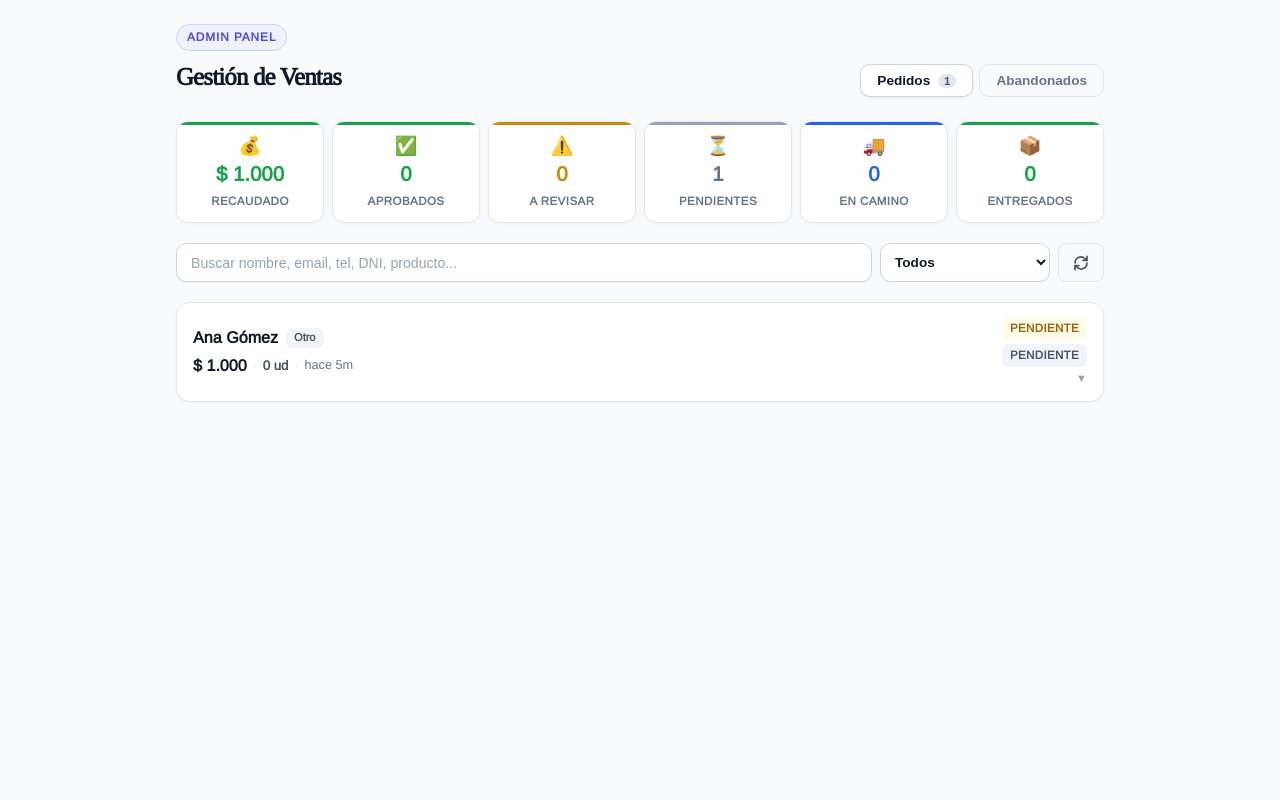
it: AdminOrders (integración con hooks y panel) › el detalle del pedido: tracking con Enter y aprobación manual con confirmación
The width and height of the screenshot is (1280, 800).
Click the button "Ana Gómez": click(236, 338) x1=177 y1=303 x2=1103 y2=401
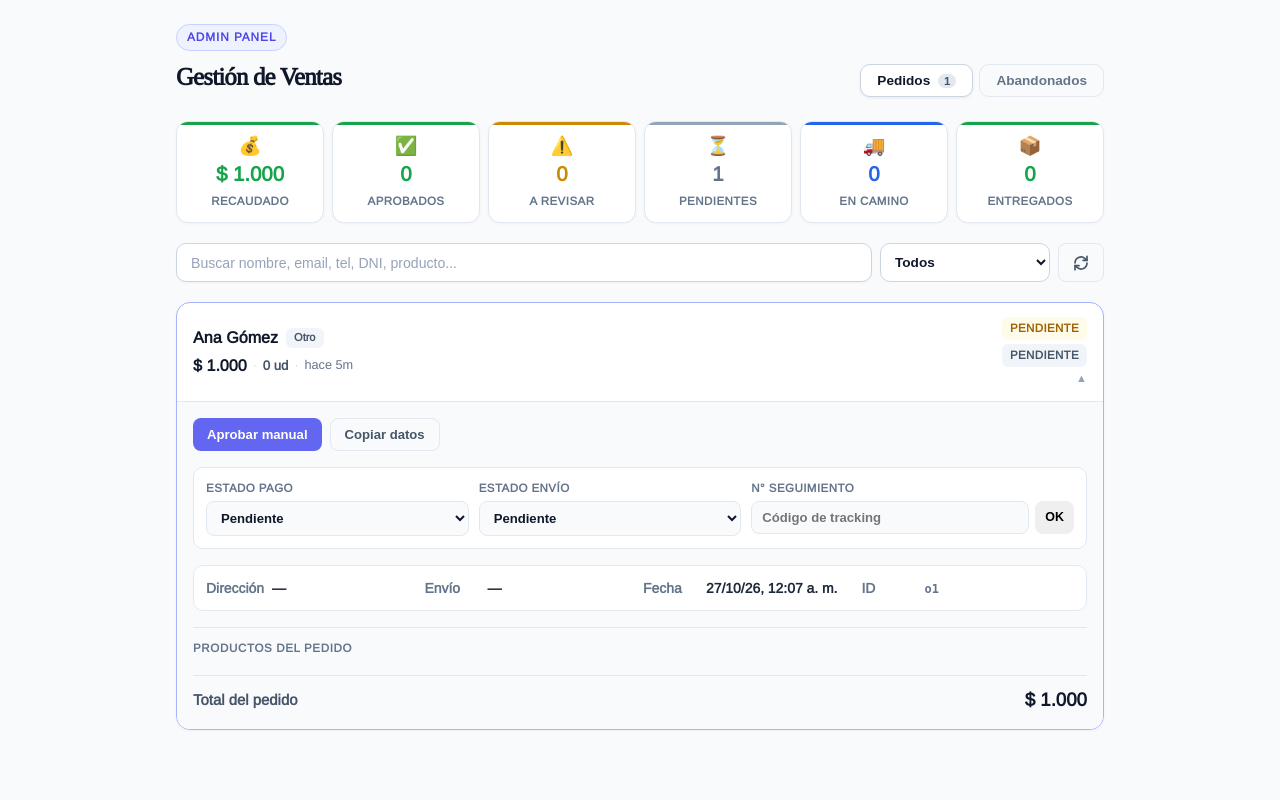
Now the button "Ana Gómez" is expanded, box x1=177 y1=303 x2=1103 y2=401
In the field labelled "N° seguimiento": (890, 517) x1=751 y1=501 x2=1029 y2=534, type "  AR123  "
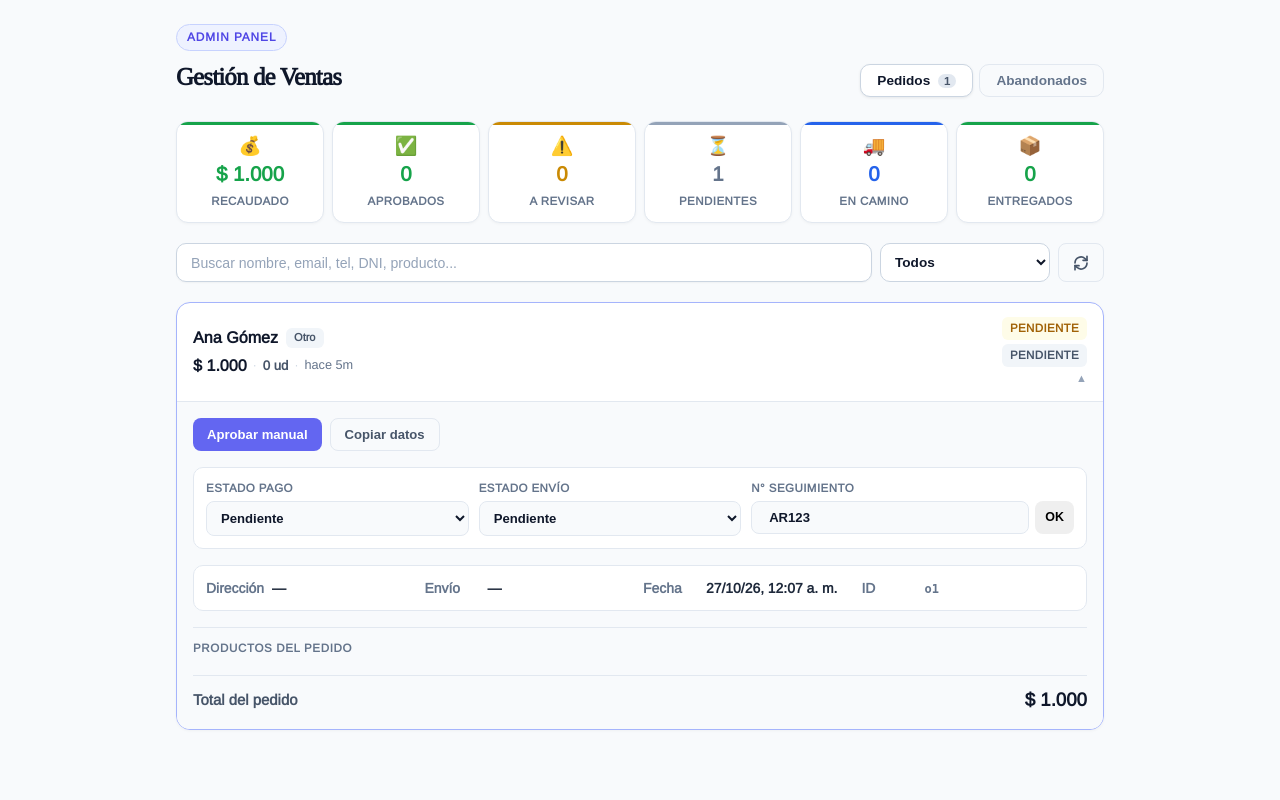
Submit the form labelled "N° seguimiento", box x1=751 y1=480 x2=1074 y2=536
Click the button "Aprobar manual": click(257, 434) x1=193 y1=418 x2=322 y2=451
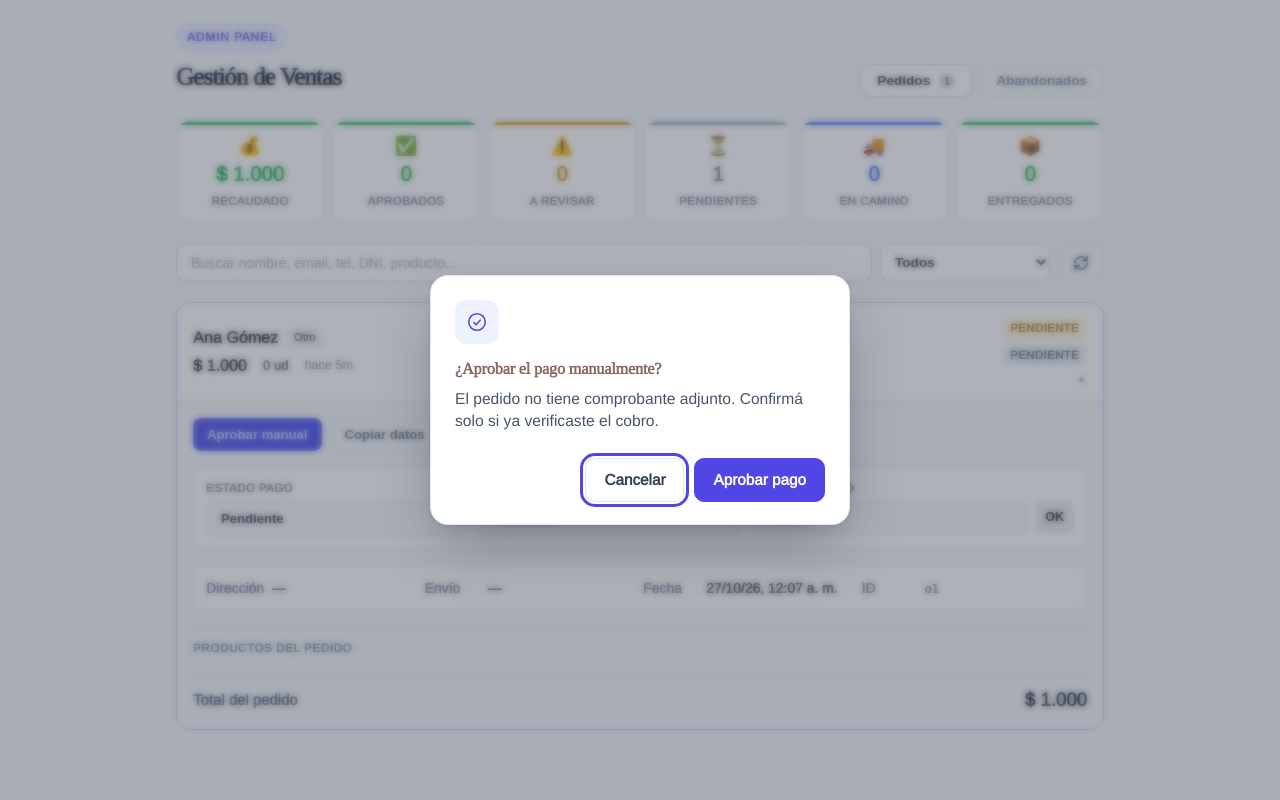
Click the button "Aprobar pago": click(760, 480) x1=694 y1=458 x2=825 y2=502
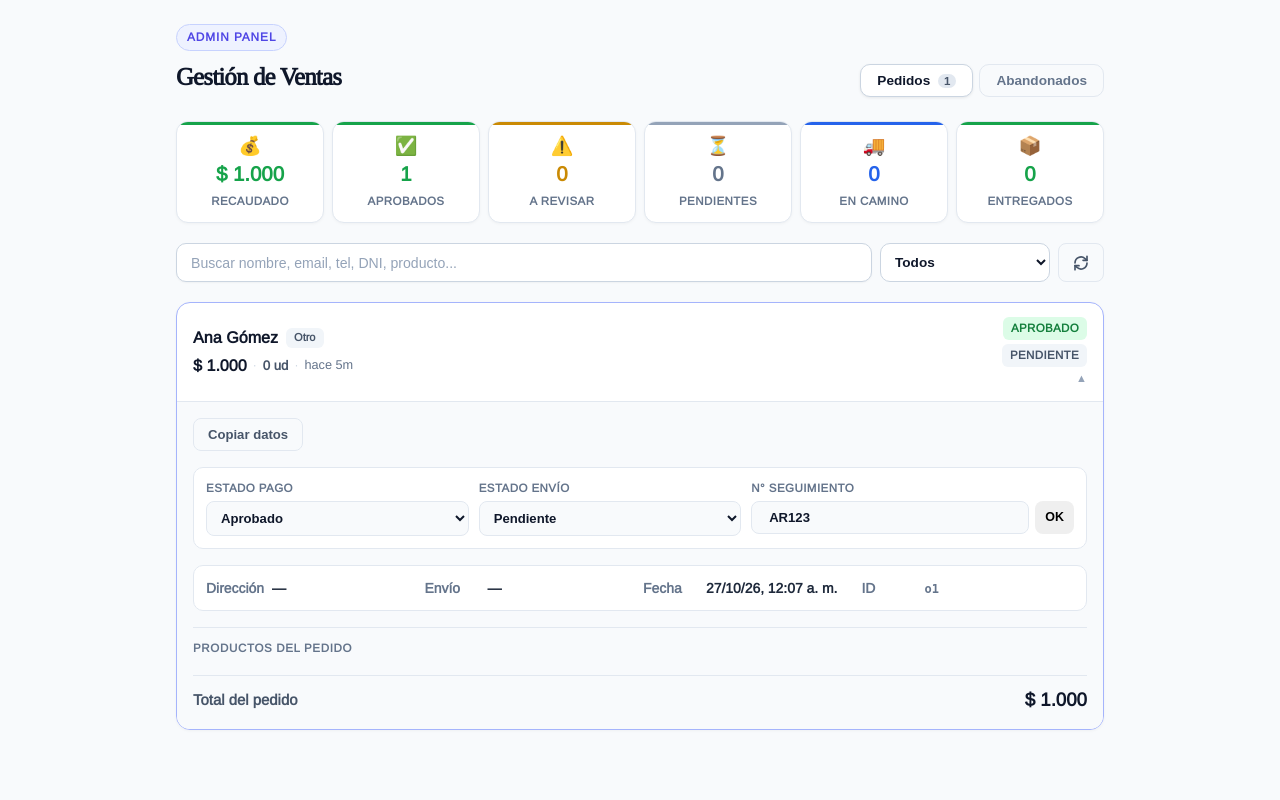
Now the button "Aprobar manual" is gone
